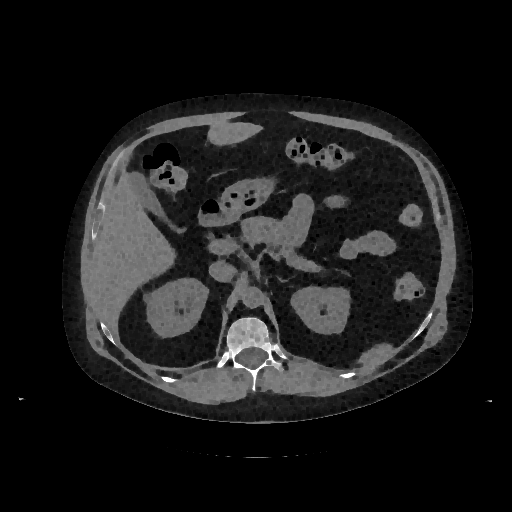Lesion: (137, 290, 157, 304)
